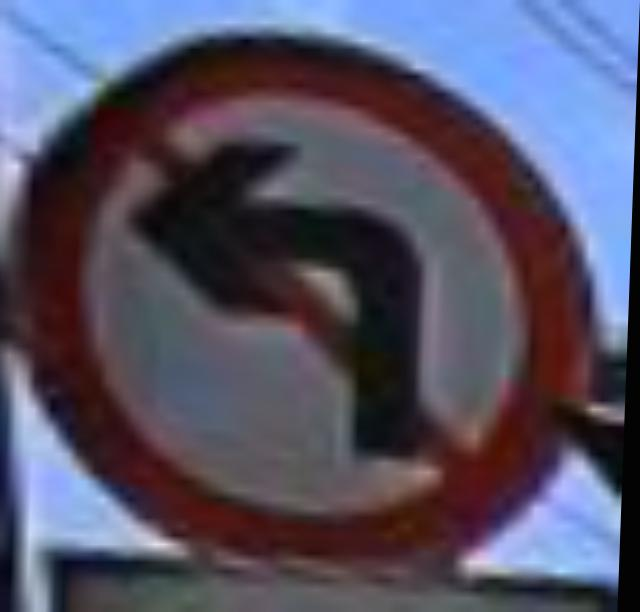not_turn_left: (17, 36, 604, 556)
